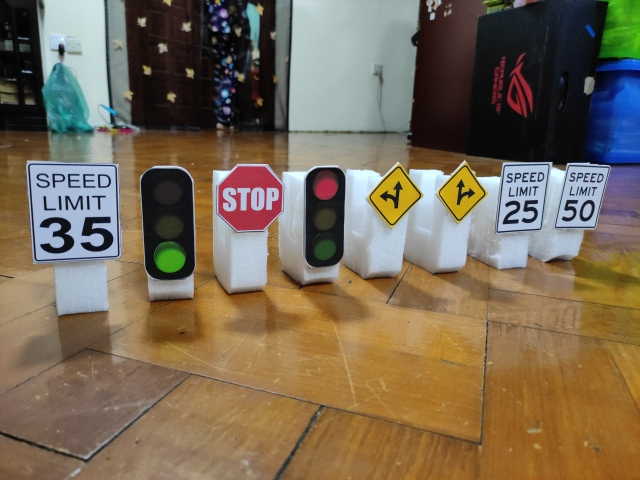Green Traffic Light: (140, 165, 196, 281)
Red Traffic Light: (303, 166, 348, 268)
Speed Limit 25: (496, 161, 550, 234)
Speed Limit 35: (24, 160, 123, 264)
Speed Limit 50: (555, 164, 611, 229)
Stop Sign: (215, 164, 287, 234)
Straight Or Left Sign: (367, 165, 423, 227)
Straight Or Right Sign: (436, 162, 487, 222)
